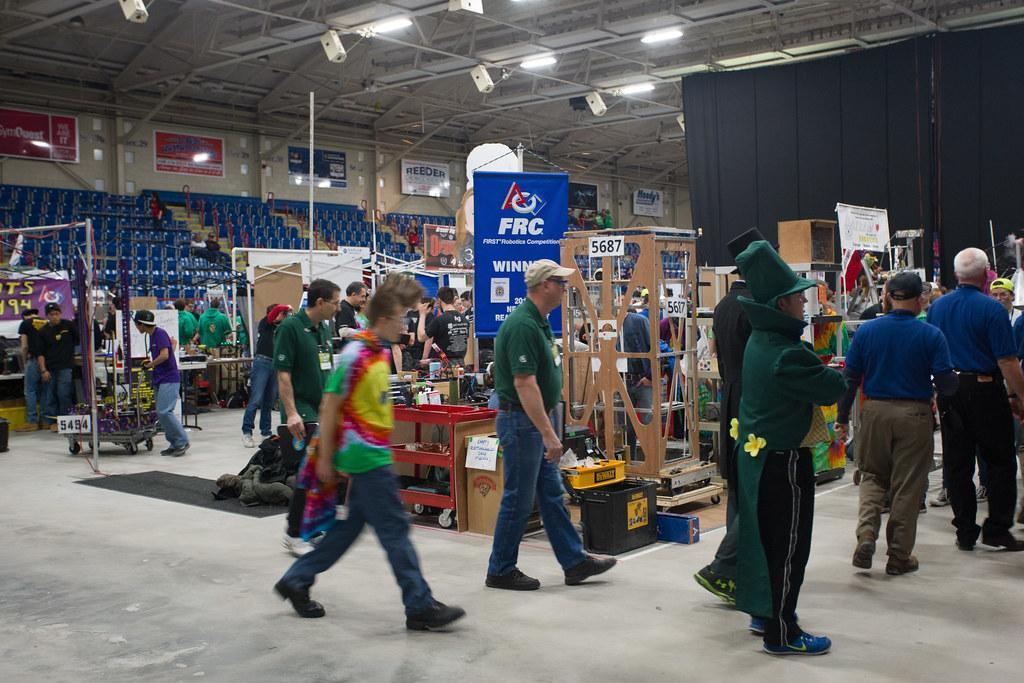robot: (53, 251, 170, 467)
